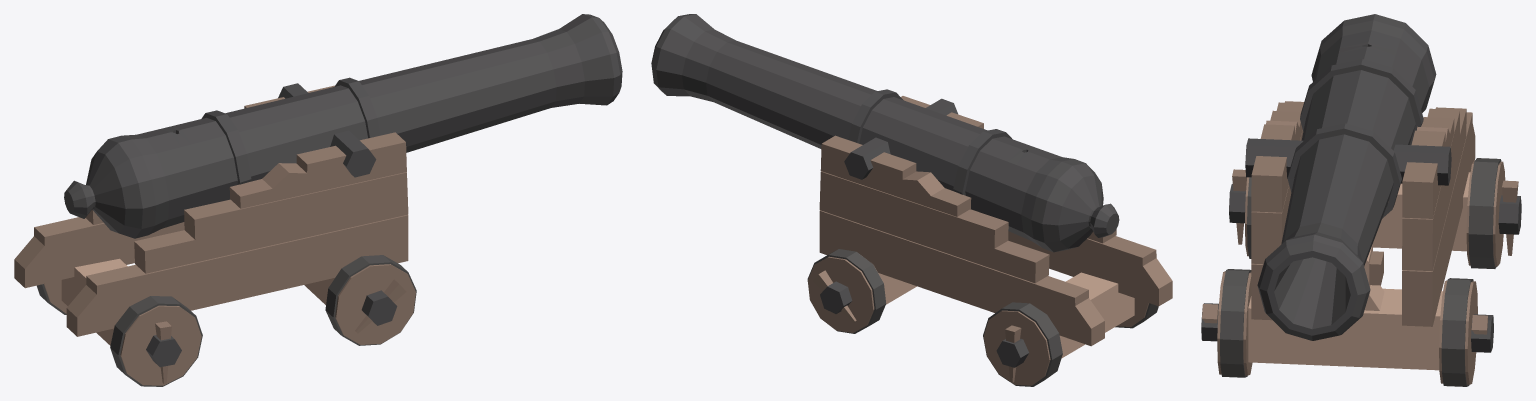
Rendered from top.fbx.
The picture shows the model from 3 angles, left to right: view 1: azimuth 30°, elevation 25°; view 2: azimuth 150°, elevation 25°; view 3: azimuth 270°, elevation 25°; orthographic projection. The views are drawn at different scales.
Parts seen in each view (by area): view 1: Cylinder.037; view 2: Cylinder.037; view 3: Cylinder.037.
Boxes of the visible parts, x1,y1,x2,y2 form: Cylinder.037: [14, 14, 622, 386]; Cylinder.037: [651, 14, 1172, 386]; Cylinder.037: [1201, 14, 1521, 386].
Bounding box in the file's own units: 382 × 162 × 164.
